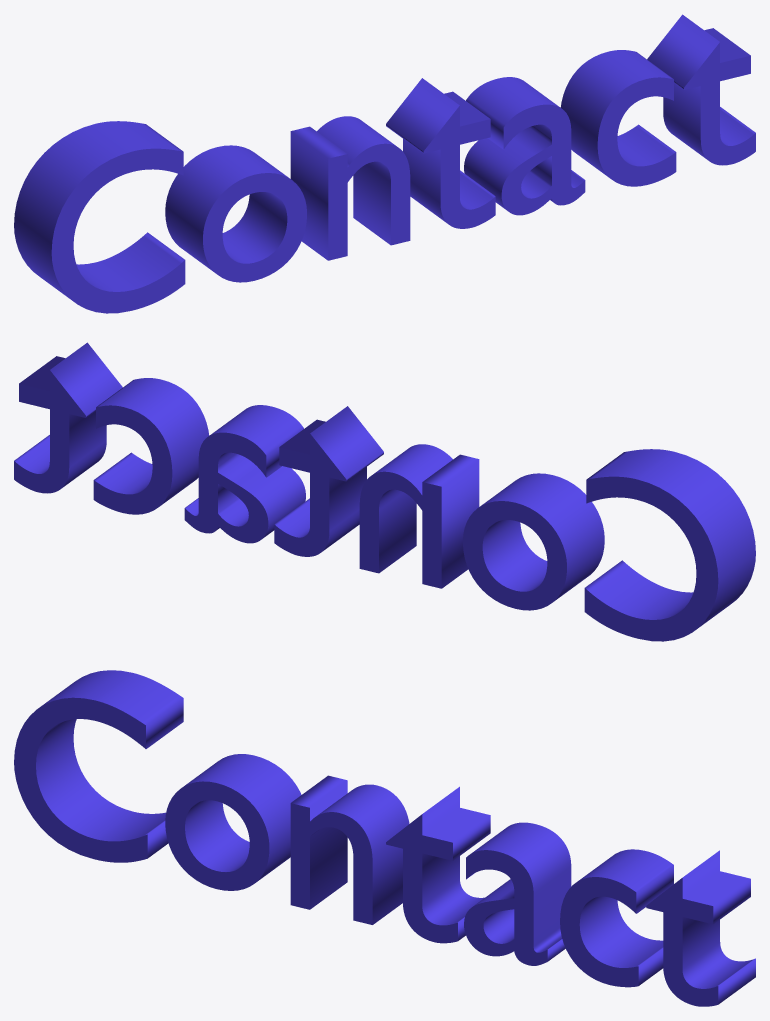
Rendered from contact.gltf.
3 renders of one model, top to bottom at view 1: azimuth 30°, elevation 25°; view 2: azimuth 150°, elevation 25°; view 3: azimuth 330°, elevation 25°, orthographic.
Parts seen in each view (by area): view 1: Text; view 2: Text; view 3: Text.
Part boxes in pixels (<box>): Text: <box>14,14,755,313</box>; Text: <box>14,342,755,641</box>; Text: <box>14,670,755,1006</box>.
Bounding box in the file's own units: 3.24 × 0.7 × 0.3.
